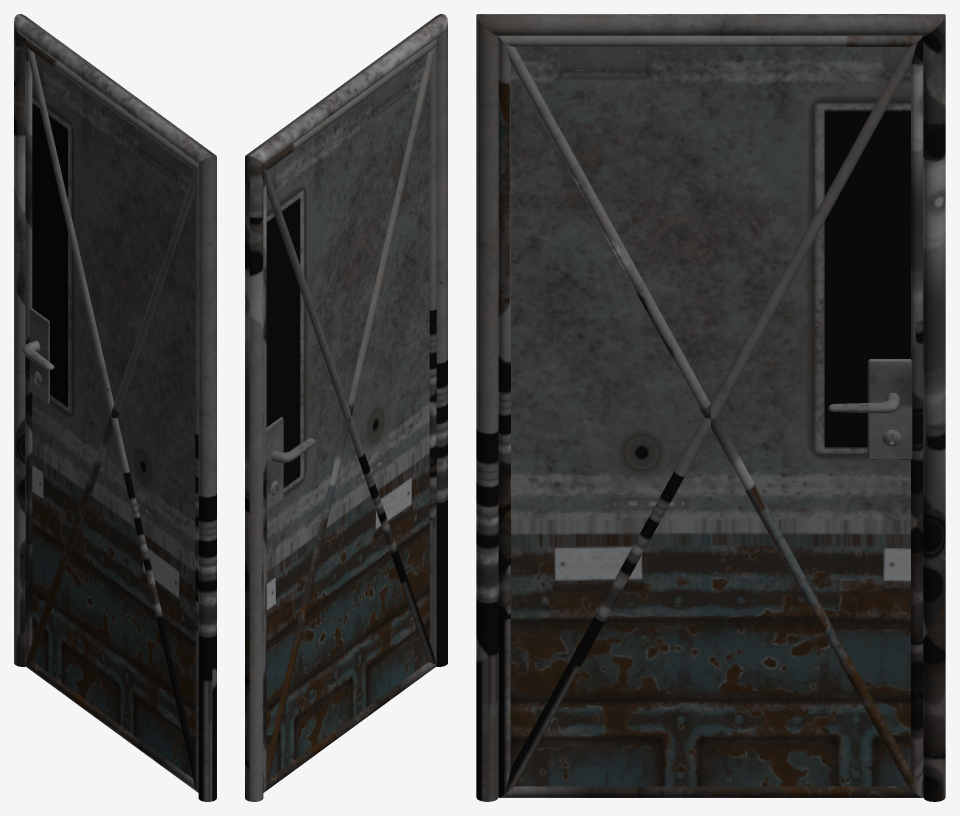
Rendered from Wiremesh_Door.glb.
3 renders of one model, left to right at view 1: azimuth 30°, elevation 25°; view 2: azimuth 150°, elevation 25°; view 3: azimuth 270°, elevation 25°, orthographic. The views are drawn at different scales.
Visible parts, largest first — view 1: Door, Door_Frame; view 2: Door, Door_Frame; view 3: Door, Door_Frame.
Part boxes in pixels (x1,y1,x2,y2): Door: [22, 39, 198, 792]; Door_Frame: [14, 14, 216, 801]; Door: [263, 39, 436, 792]; Door_Frame: [245, 14, 447, 801]; Door: [498, 36, 923, 797]; Door_Frame: [476, 14, 945, 801].
Size of the model in its own units: 0.1434 by 2.05 by 1.12.
1 material, 1 textured.
